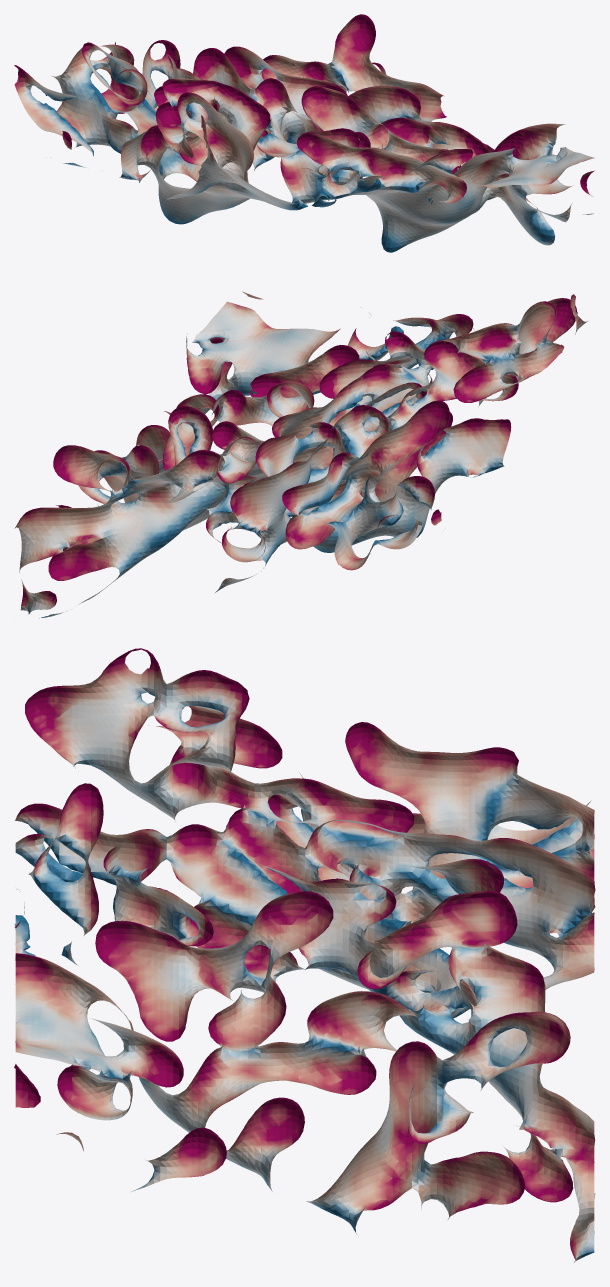
Rendered from crop1041_deviation.glb.
The picture shows the model from 3 angles, top to bottom: view 1: azimuth 30°, elevation 25°; view 2: azimuth 150°, elevation 25°; view 3: azimuth 270°, elevation 25°; orthographic projection. The views are drawn at different scales.
Parts seen in each view (by area): view 1: world; view 2: world; view 3: world.
Boxes of the visible parts, x1,y1,x2,y2 form: world: [14, 14, 594, 252]; world: [14, 291, 587, 618]; world: [14, 648, 595, 1262].
Size of the model in its own units: 1480 by 1074 by 1480.
